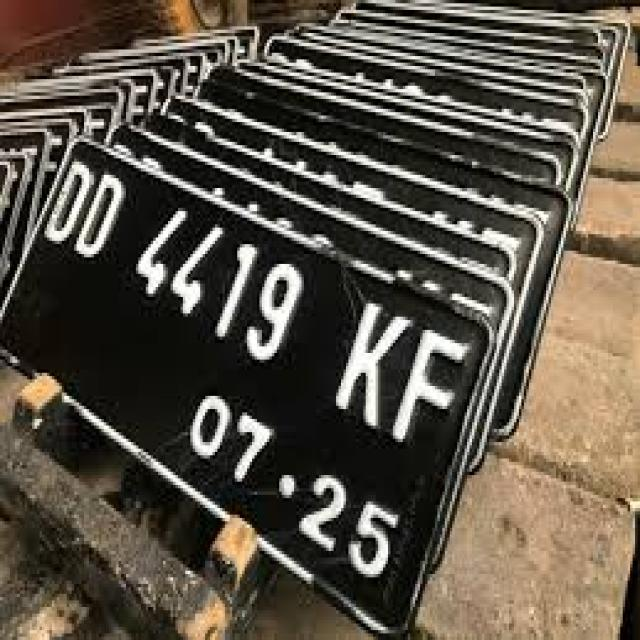lisence-plate: (9, 127, 502, 640)
